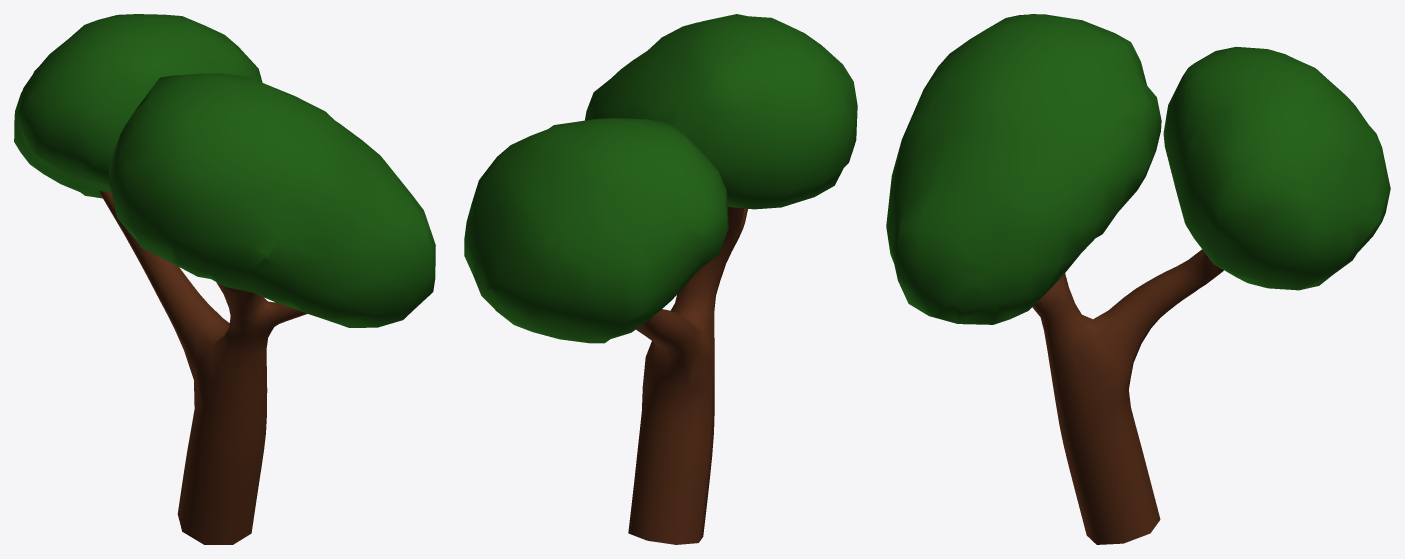
Rendered from Tree.fbx.
The picture shows the model from 3 angles, left to right: view 1: azimuth 30°, elevation 25°; view 2: azimuth 150°, elevation 25°; view 3: azimuth 270°, elevation 25°; orthographic projection.
Parts seen in each view (by area): view 1: Sphere.002, Plane, Sphere.003; view 2: Sphere.003, Sphere.002, Plane; view 3: Sphere.002, Sphere.003, Plane.
Part boxes in pixels (x1=…): Sphere.002: x1=109, y1=73, x2=435, y2=327; Plane: x1=99, y1=191, x2=307, y2=544; Sphere.003: x1=14, y1=14, x2=262, y2=198; Sphere.003: x1=464, y1=118, x2=728, y2=343; Sphere.002: x1=585, y1=14, x2=857, y2=209; Plane: x1=628, y1=206, x2=747, y2=544; Sphere.002: x1=886, y1=14, x2=1161, y2=324; Sphere.003: x1=1163, y1=46, x2=1390, y2=290; Plane: x1=1032, y1=249, x2=1223, y2=544.
Size of the model in its own units: 191 by 327 by 305.
